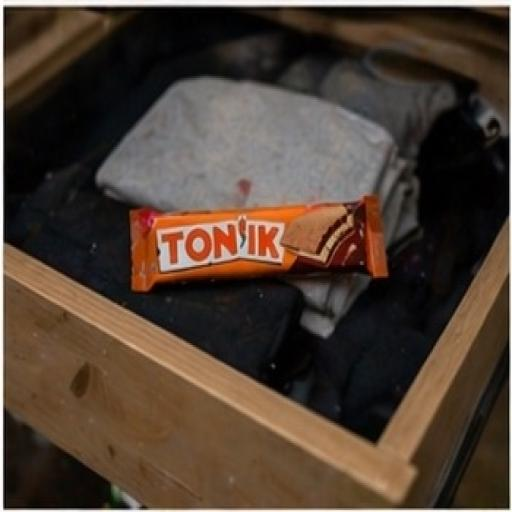tonik: (77, 146, 444, 351)
